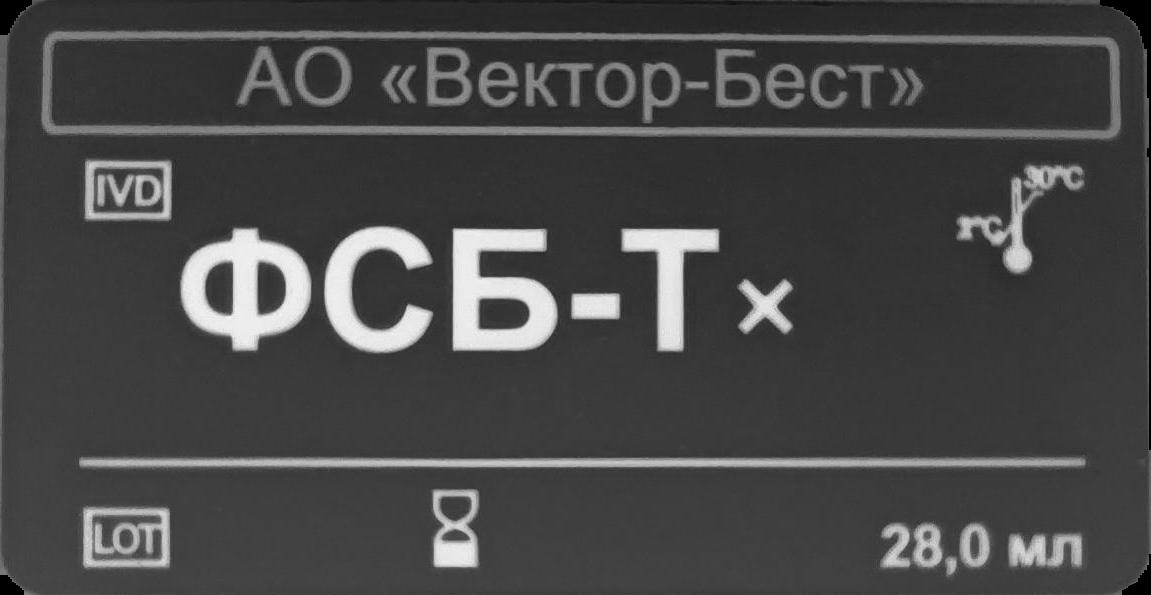something: (952, 160, 1088, 279), (77, 155, 177, 227), (80, 507, 176, 570), (432, 487, 484, 574)
text: (174, 218, 814, 368), (237, 36, 927, 124), (878, 517, 1086, 579)
